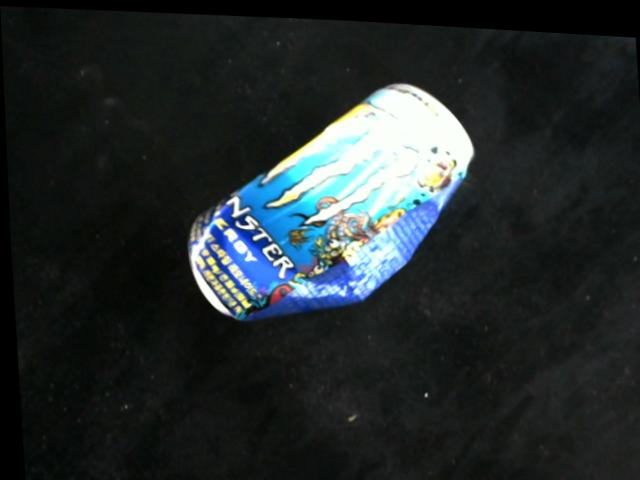can: (189, 78, 474, 320)
